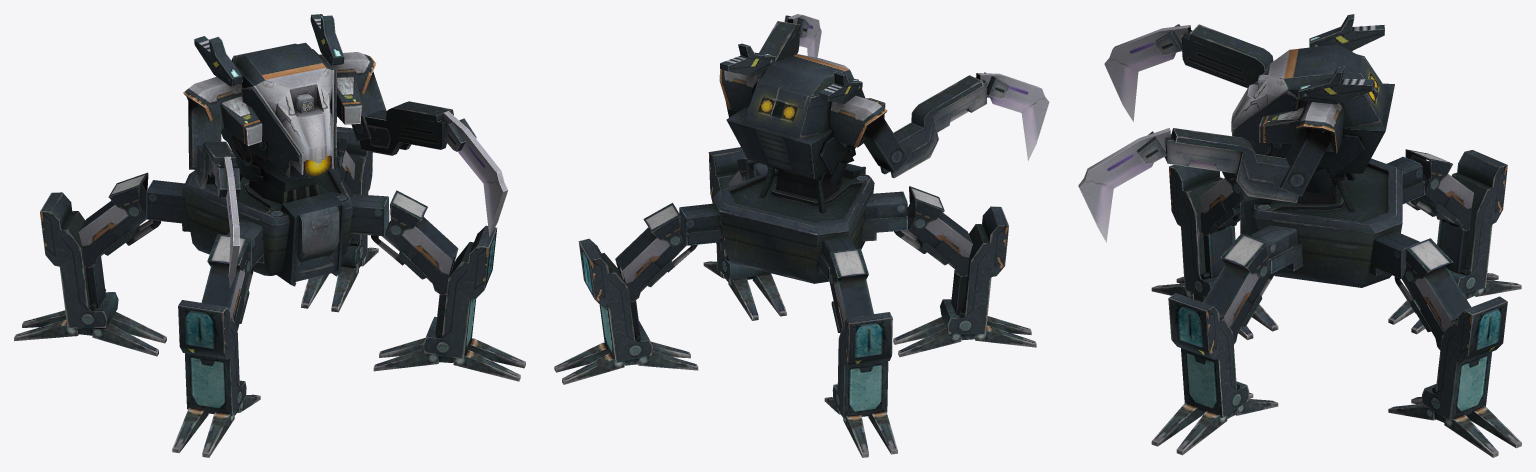
3 views of the same model, side by side, from view 1: azimuth 30°, elevation 25°; view 2: azimuth 150°, elevation 25°; view 3: azimuth 270°, elevation 25° (orthographic). The views are drawn at different scales.
Visible parts, largest first — view 1: 20_10; view 2: 20_10; view 3: 20_10.
Boxes of the visible parts, x1,y1,x2,y2 form: 20_10: (14, 14, 525, 457); 20_10: (554, 14, 1049, 457); 20_10: (1078, 14, 1521, 457).
Size of the model in its own units: 301 by 254 by 313.
